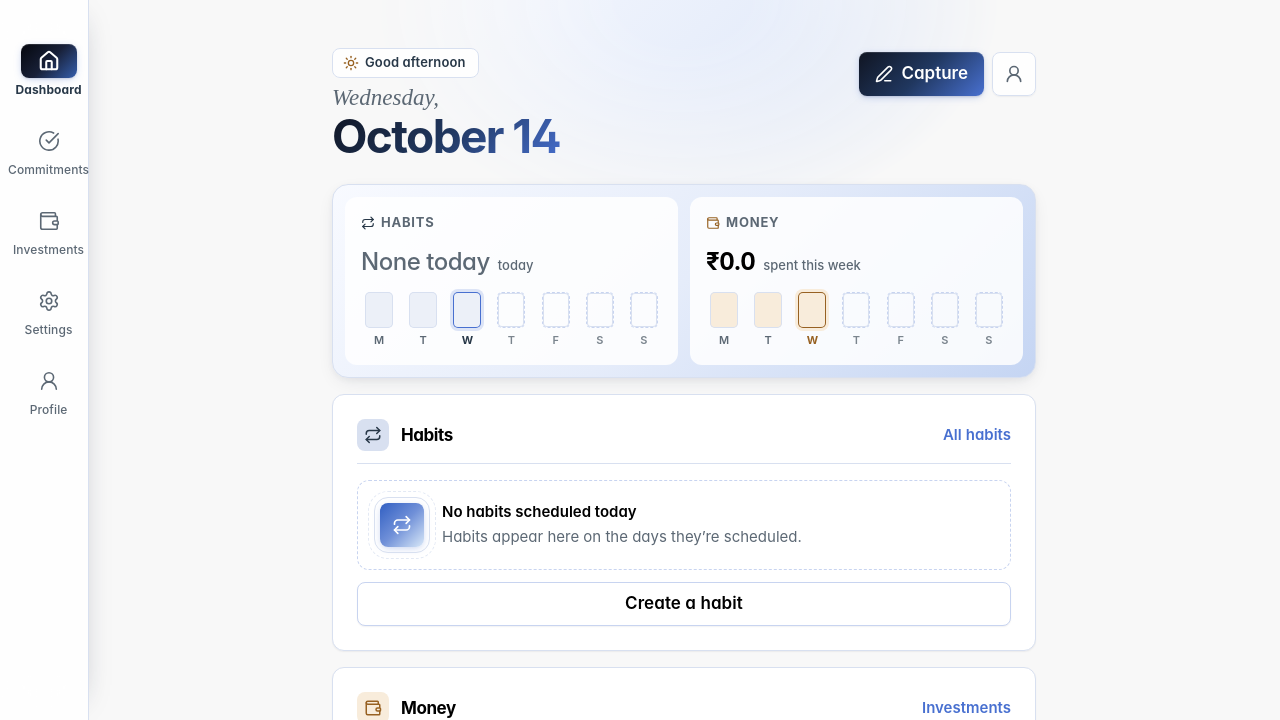
Test: tasks UI › quick capture saves a task to the inbox
The image size is (1280, 720).
Click the button with aria-label "Capture a note, task, or expense". click: [922, 74]
box: x1=859 y1=52 x2=984 y2=96
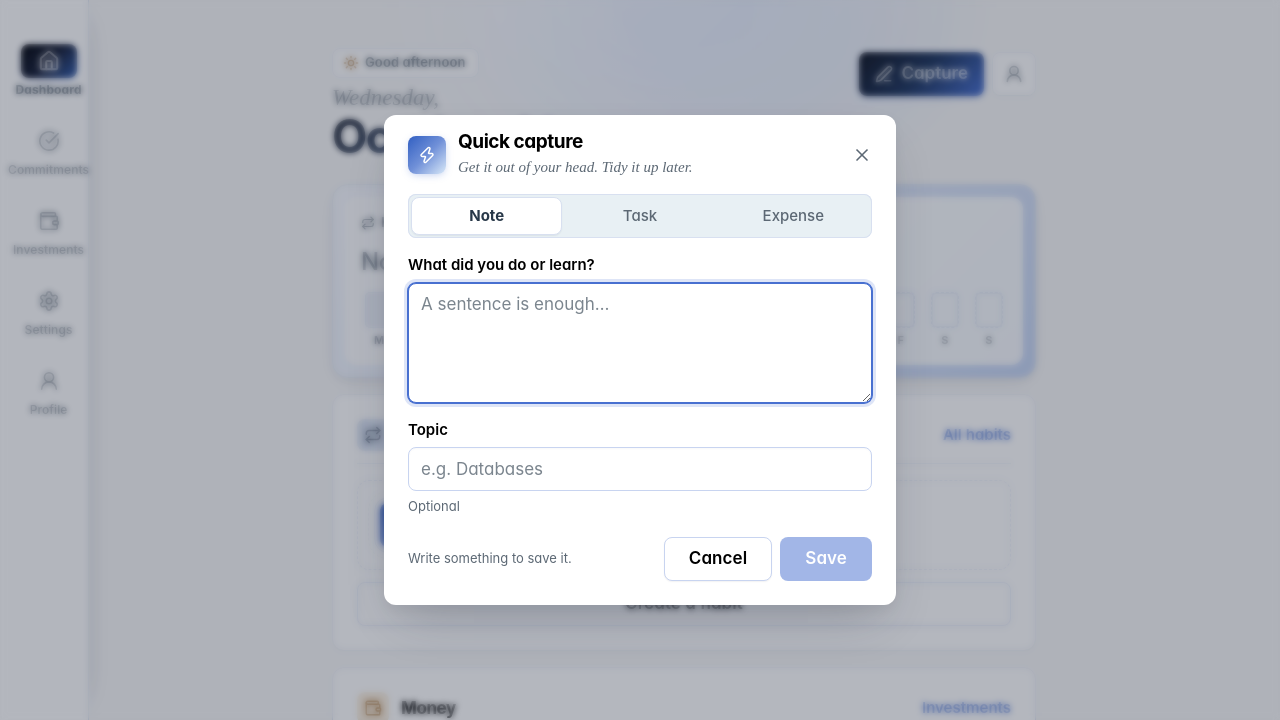
Click the button "Task". click: [640, 216]
box: x1=564 y1=197 x2=716 y2=235
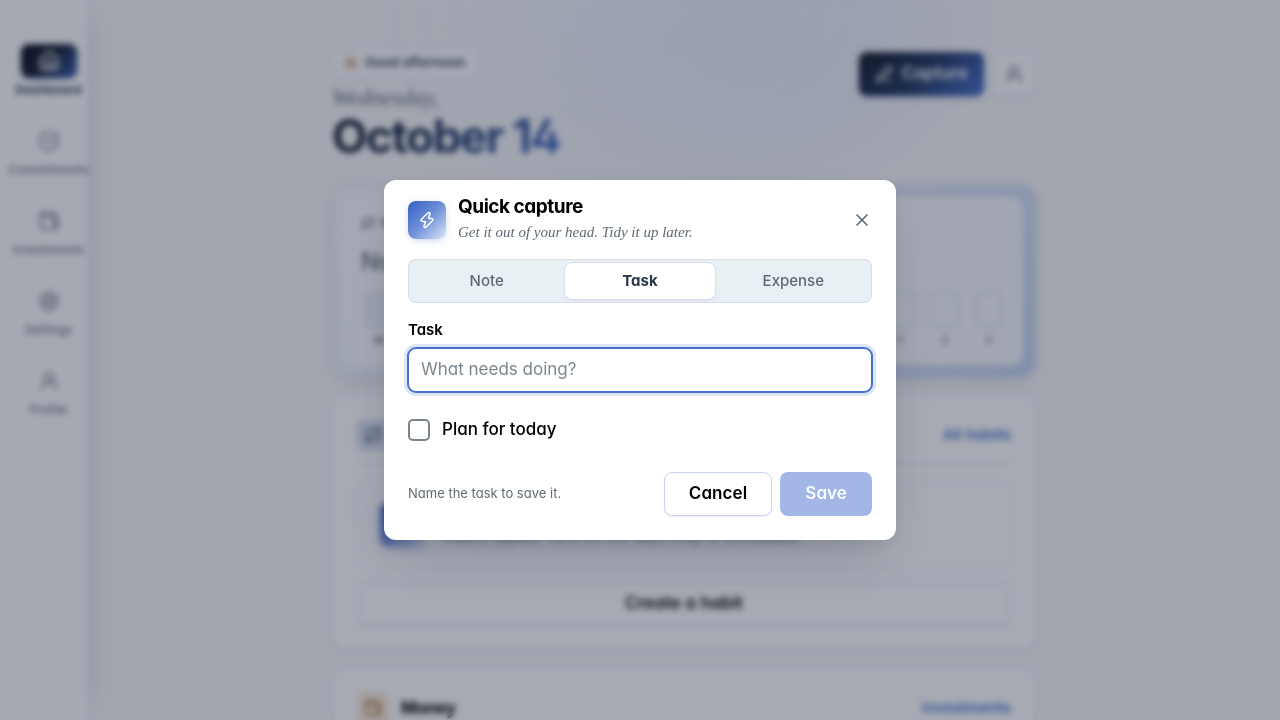
Type "Call the bank" into the field labelled "Task". click: [640, 370]
box: x1=408 y1=348 x2=872 y2=392
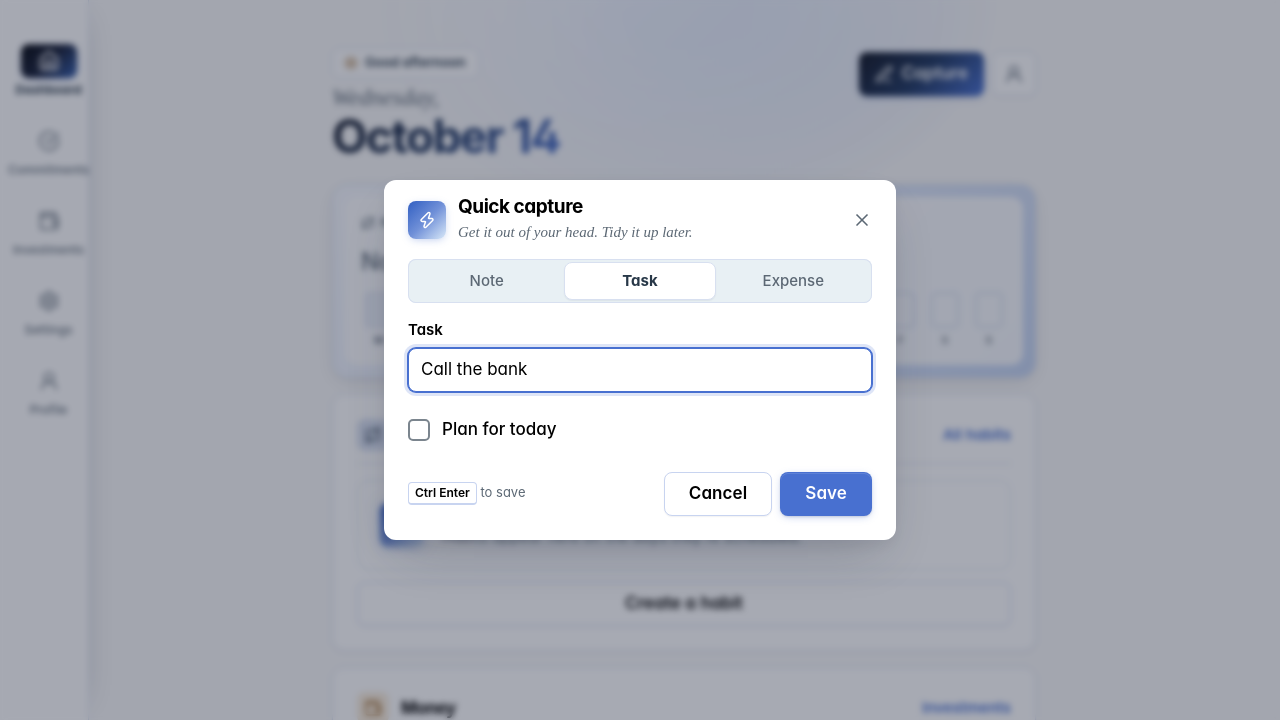
Click the button "Save". click: [826, 494]
box: x1=780 y1=472 x2=872 y2=516
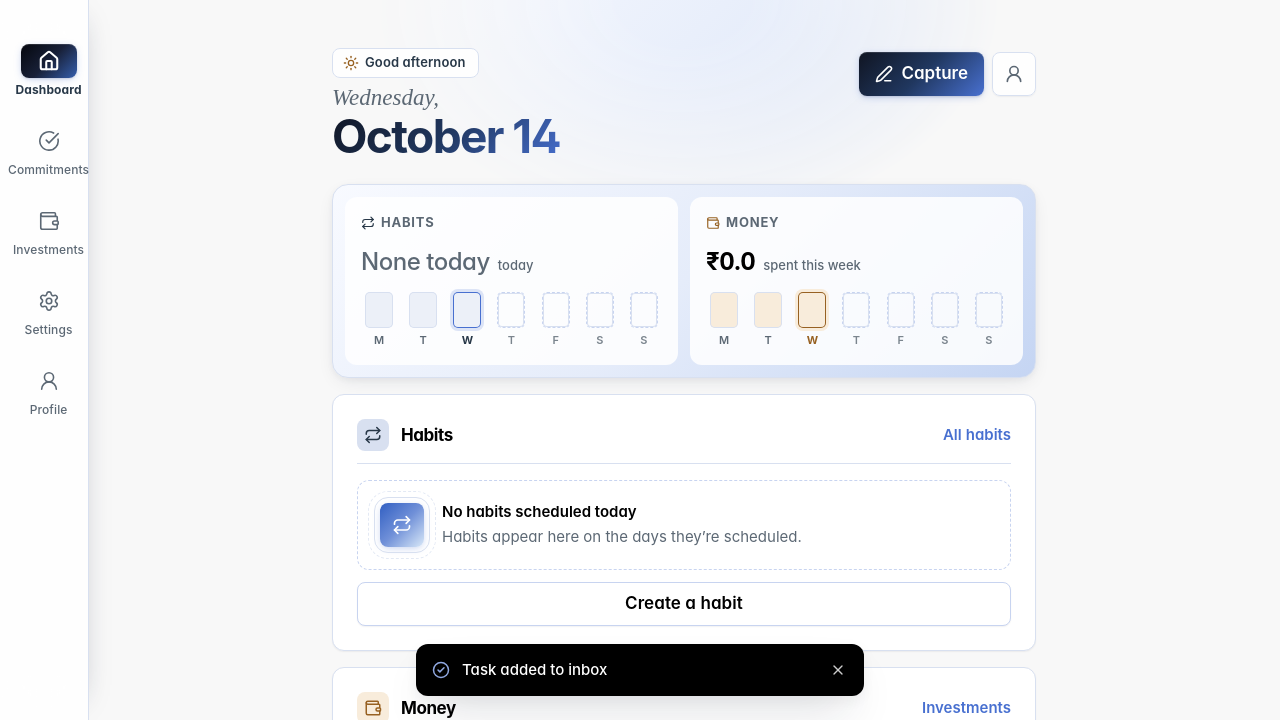
Check: the text "Task added to inbox" is shown, box x1=462 y1=660 x2=608 y2=679
